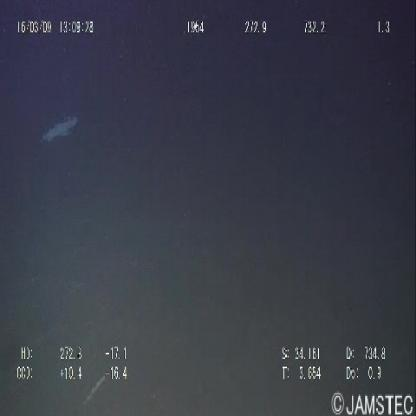Rác: (34, 103, 83, 157)
